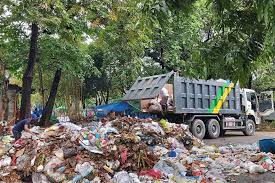garbage: (42, 121, 181, 183), (1, 144, 217, 183), (105, 144, 275, 182)
